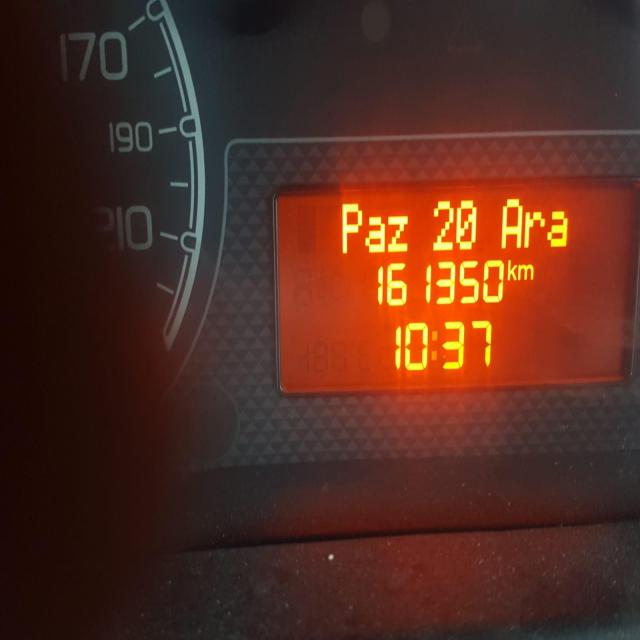odometer: (274, 186, 636, 400)
